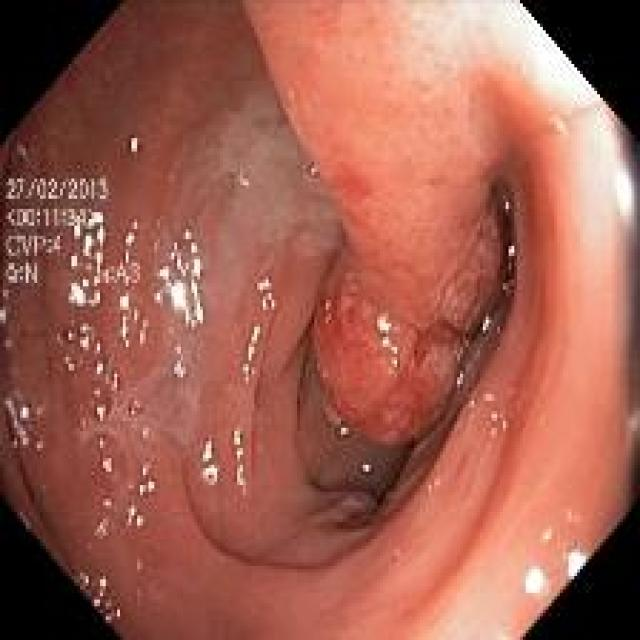Polyps: (314, 184, 515, 444)
